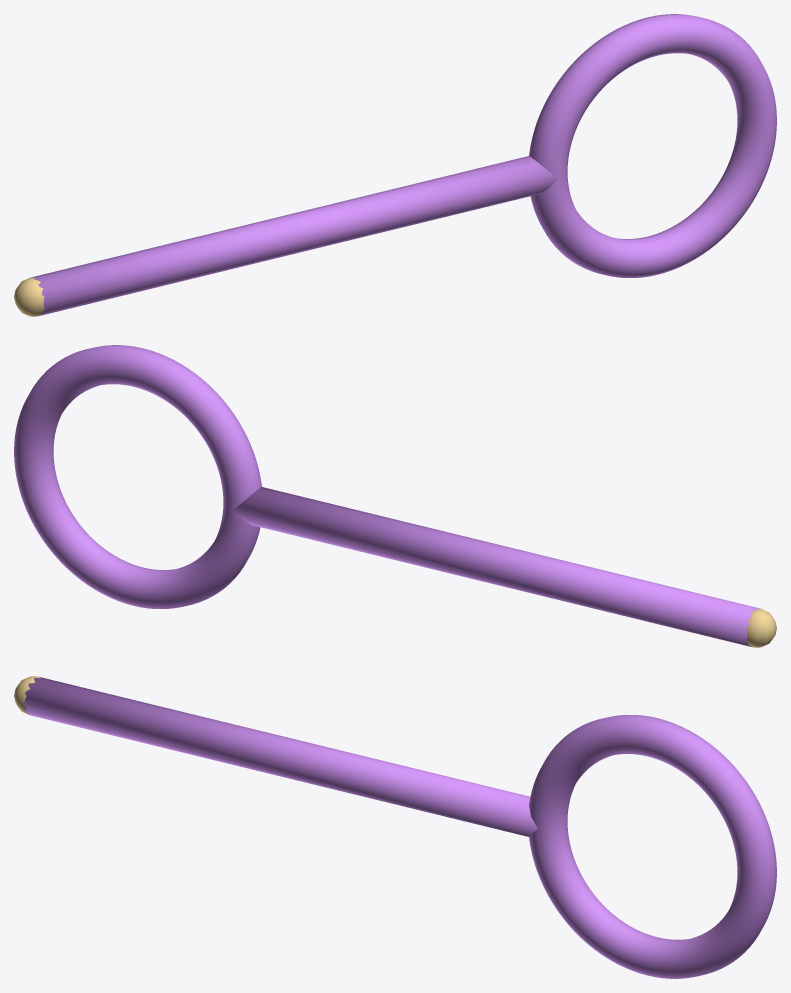
The model's file is lollipop-DCIIVmh3.glb.
3 renders of one model, top to bottom at view 1: azimuth 30°, elevation 25°; view 2: azimuth 150°, elevation 25°; view 3: azimuth 330°, elevation 25°, orthographic.
Parts seen in each view (by area): view 1: R3D_lollipop_Body_1, R3D_lollipop_Body_0, R3D_lollipop_Tip_0; view 2: R3D_lollipop_Body_1, R3D_lollipop_Body_0, R3D_lollipop_Tip_0; view 3: R3D_lollipop_Body_1, R3D_lollipop_Body_0.
Boxes of the visible parts, x1,y1,x2,y2 form: R3D_lollipop_Body_1: (529,14,776,277); R3D_lollipop_Body_0: (29,156,557,316); R3D_lollipop_Tip_0: (14,277,44,316); R3D_lollipop_Body_1: (14,345,261,608); R3D_lollipop_Body_0: (233,487,761,647); R3D_lollipop_Tip_0: (746,608,776,647); R3D_lollipop_Body_1: (529,715,776,978); R3D_lollipop_Body_0: (24,676,537,836).
Bounding box in the file's own units: 3.98 × 1.28 × 0.18.
